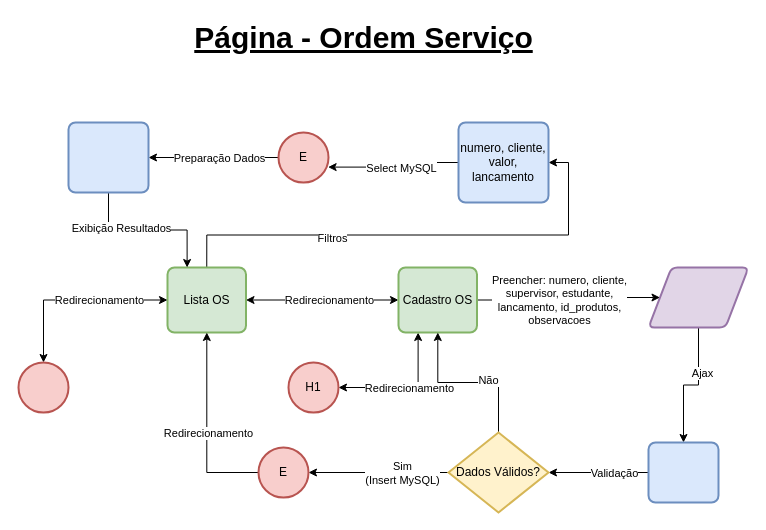
The diagram is 766 pixels wide and 530 high, and some of its shapes have lost their labels. Each missing label, with the box of its shape:
Atualização Dados Lista: (67, 121, 149, 193)
Formulário: (647, 266, 749, 328)
G6: (17, 361, 69, 413)
Validar Dados: (647, 441, 719, 503)
